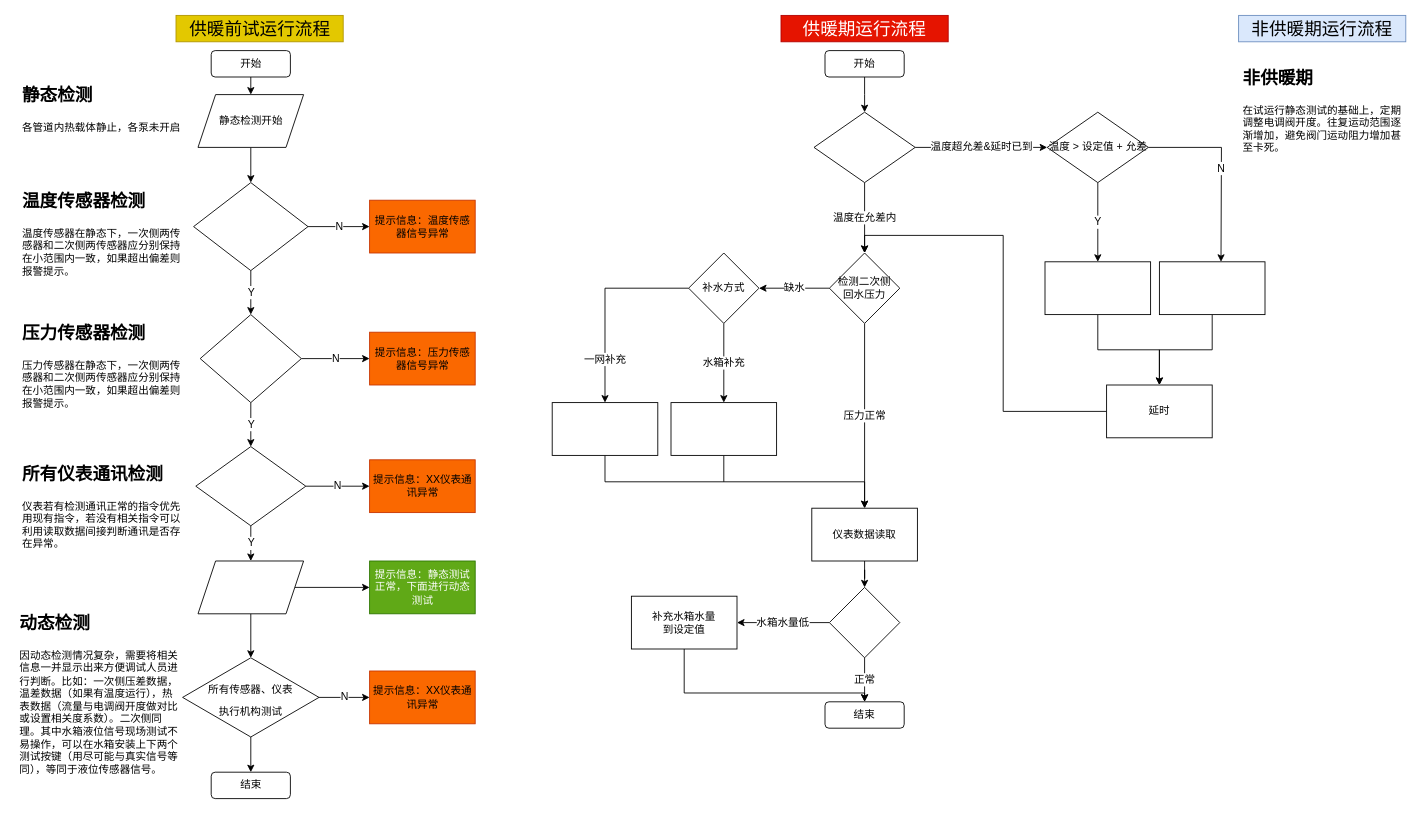
Some shapes in this 1421 by 832 pixel diagram are drawn without their labels. Here are the shapes that lost their labels. From the top down, the box of each, then its label:
(813, 111, 915, 183): 二次侧回水温度判断
(193, 182, 308, 271): 温度传感器信号 是否一致
(1044, 261, 1151, 315): 减小一次侧 电调阀开度
(1159, 261, 1265, 315): 增大一次侧 电调阀开度
(199, 314, 301, 403): 压力传感器信号 是否一致
(551, 402, 658, 455): 一补二处理
(670, 402, 777, 455): 水箱补水处理
(195, 446, 306, 526): 所有挂接仪表 通讯是否正常
(197, 560, 304, 614): 静态检测结束 动态测试开启
(829, 587, 900, 658): 水箱液位判断
